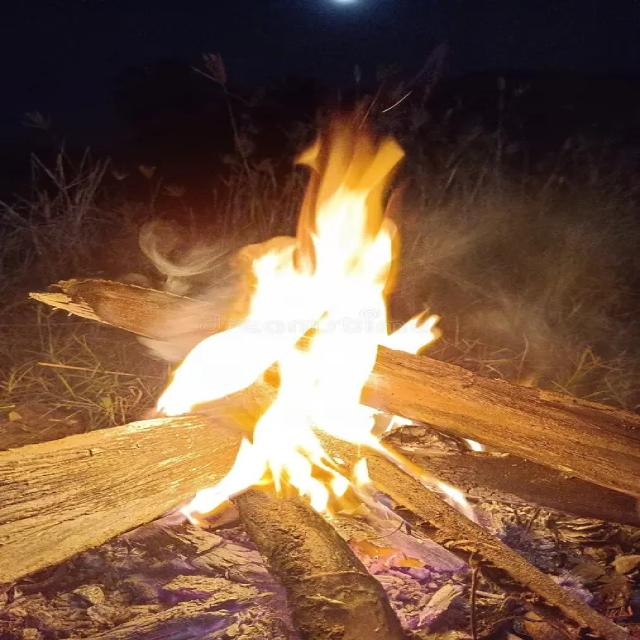fire: (157, 102, 482, 527), (430, 481, 478, 525)
